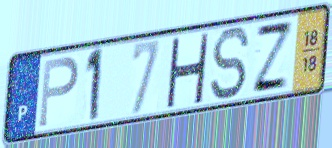1: (83, 45, 106, 126)
7: (129, 39, 165, 117)
H: (164, 32, 211, 108)
P: (37, 54, 81, 130)
S: (208, 25, 252, 103)
Z: (249, 20, 296, 95)
